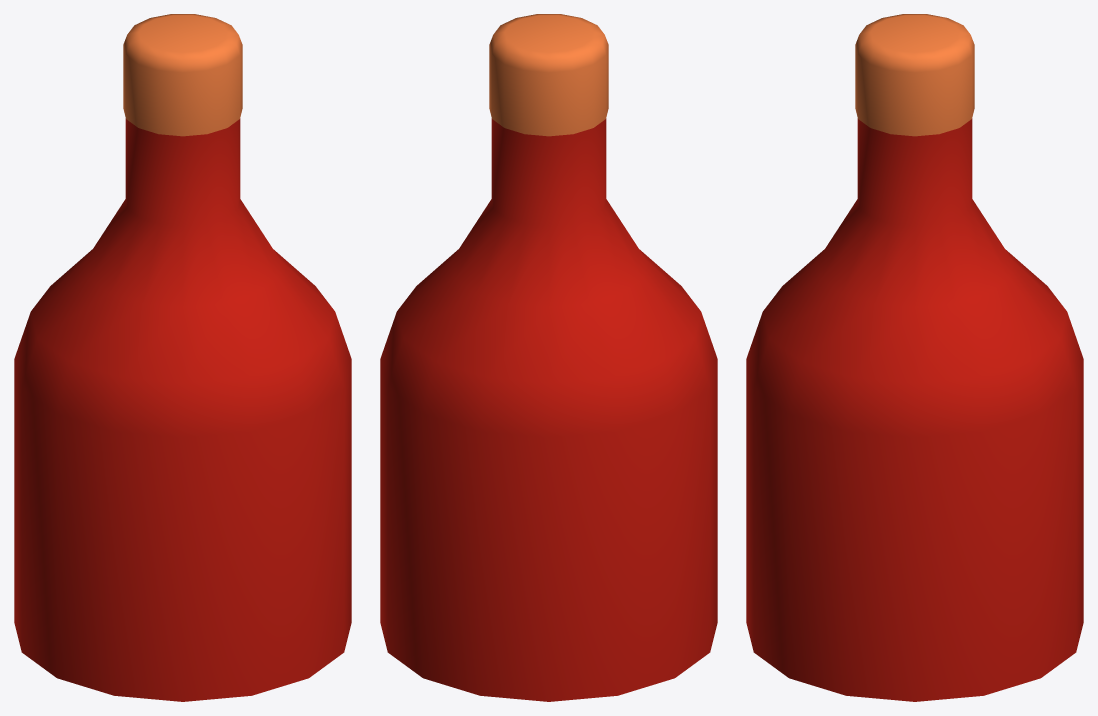
File: sake wine.FBX
The picture shows the model from 3 angles, left to right: view 1: azimuth 30°, elevation 25°; view 2: azimuth 150°, elevation 25°; view 3: azimuth 270°, elevation 25°; orthographic projection.
Parts seen in each view (by area): view 1: Cylinder126; view 2: Cylinder126; view 3: Cylinder126.
Boxes of the visible parts, x1,y1,x2,y2 form: Cylinder126: [14, 14, 351, 701]; Cylinder126: [380, 14, 717, 701]; Cylinder126: [746, 14, 1083, 701].
Bounding box in the file's own units: 0.6222 × 1.22 × 0.6256.
